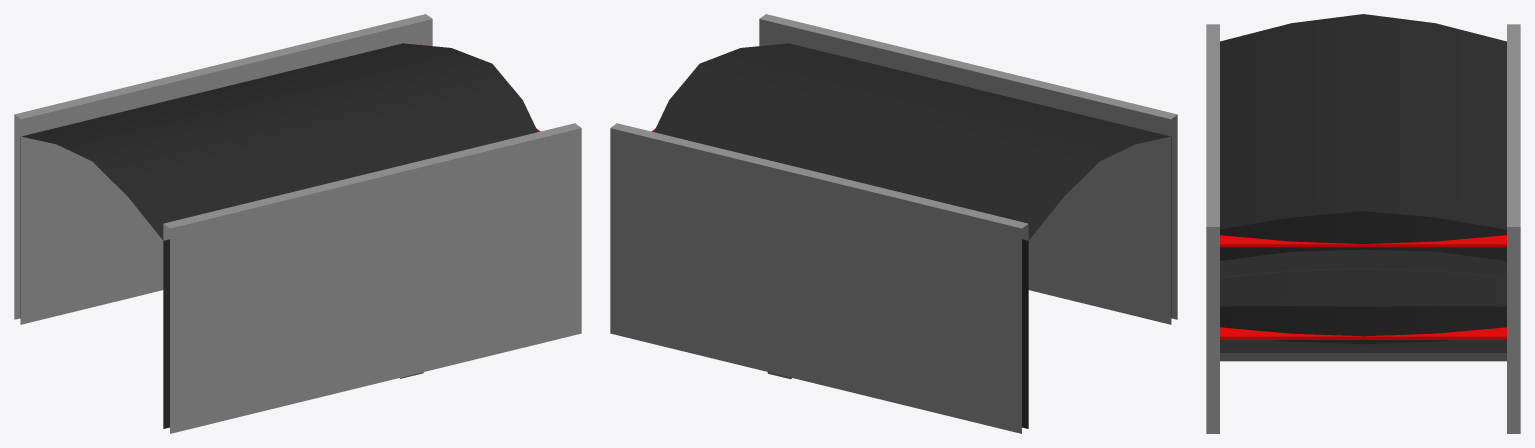
File: edificio 2.fbx
The picture shows the model from 3 angles, left to right: view 1: azimuth 30°, elevation 25°; view 2: azimuth 150°, elevation 25°; view 3: azimuth 270°, elevation 25°; orthographic projection.
Visible parts, largest first — view 1: PAREDES, BASE; view 2: PAREDES, BASE; view 3: BASE, Ventanas y Puertas, PAREDES, Decorations.
Part boxes in pixels (x1,y1,x2,y2): PAREDES: (14,14,581,433); BASE: (20,43,537,428); PAREDES: (610,14,1177,433); BASE: (654,43,1171,428); BASE: (1220,14,1506,352); Ventanas y Puertas: (1220,249,1506,361); PAREDES: (1206,24,1520,433); Decorations: (1220,235,1506,339).
Bounding box in the file's own units: 1269 × 646 × 832.
